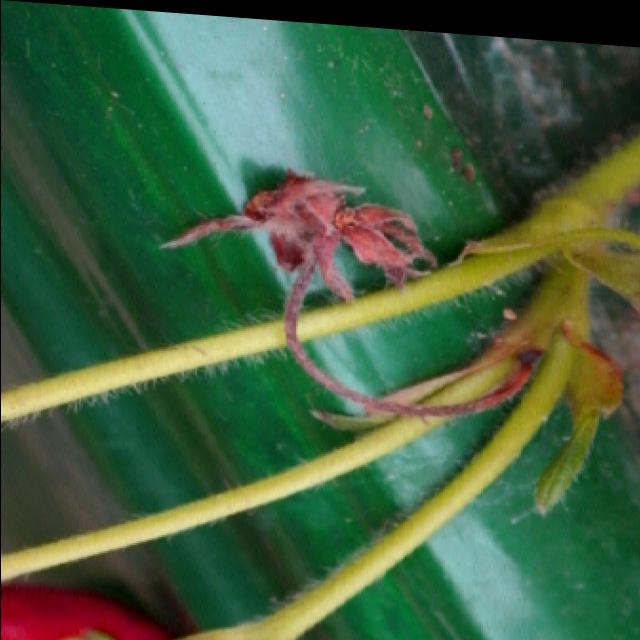Gray Mold: (153, 167, 436, 335)
